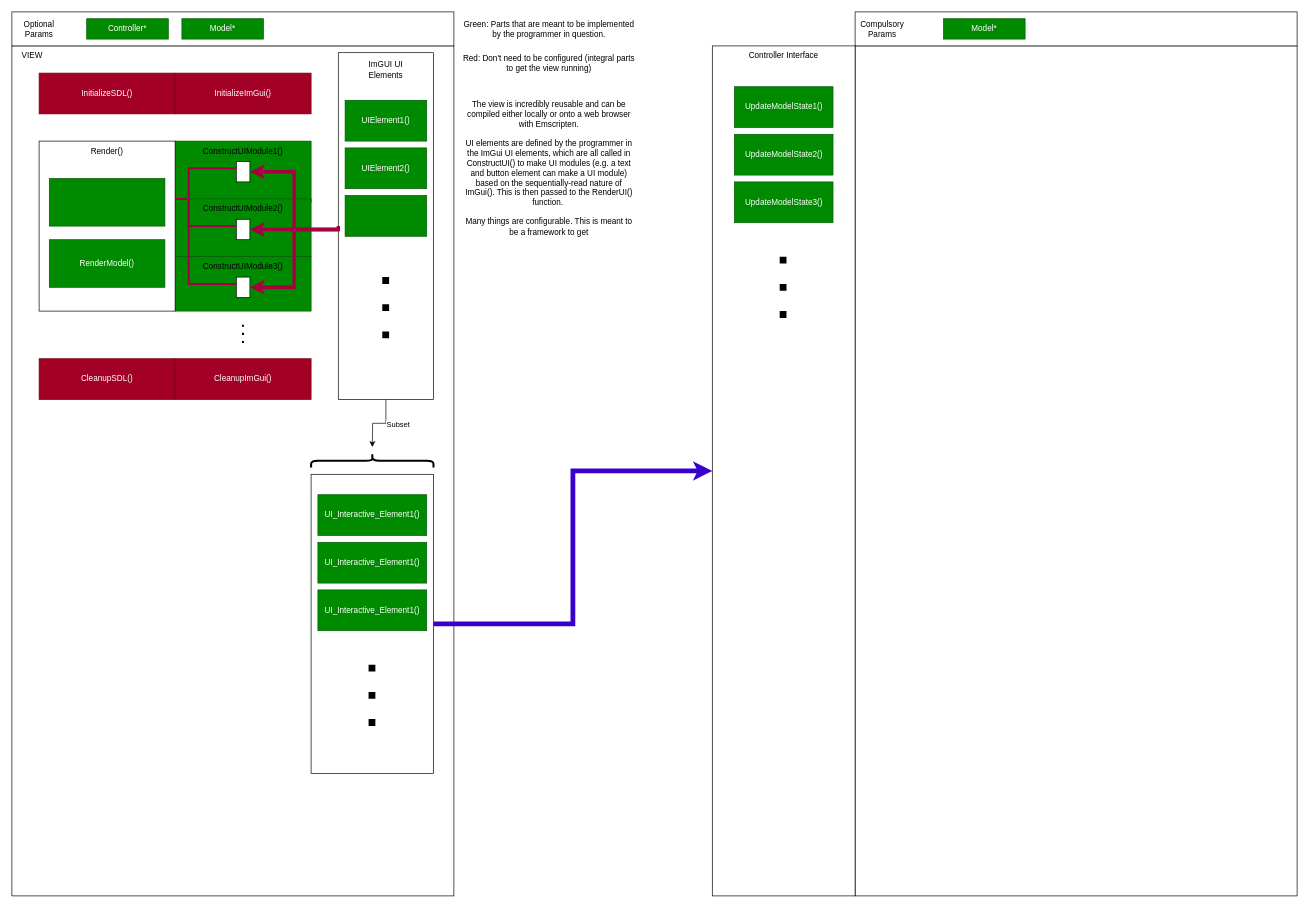
Image size: 1309x908. Some labels were removed from this diagram. The centre of each missing label's shape, as x and y in pixels:
"RenderUI()" belongs at [107,202].
"UIElement3()" belongs at [385,215].
